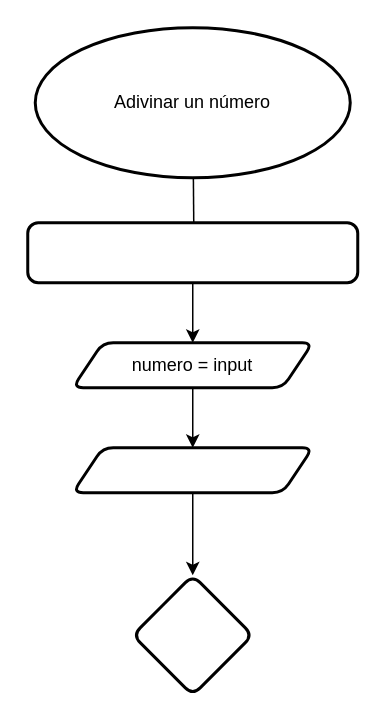
Some shapes in this 384 by 722 pixel diagram are drawn without their labels. Each missing label, with the centre of its shape:
Introduzca un número a adivinar entre el 0 y el 99: (x=192, y=252)
numero = int (numero): (x=192, y=470)
